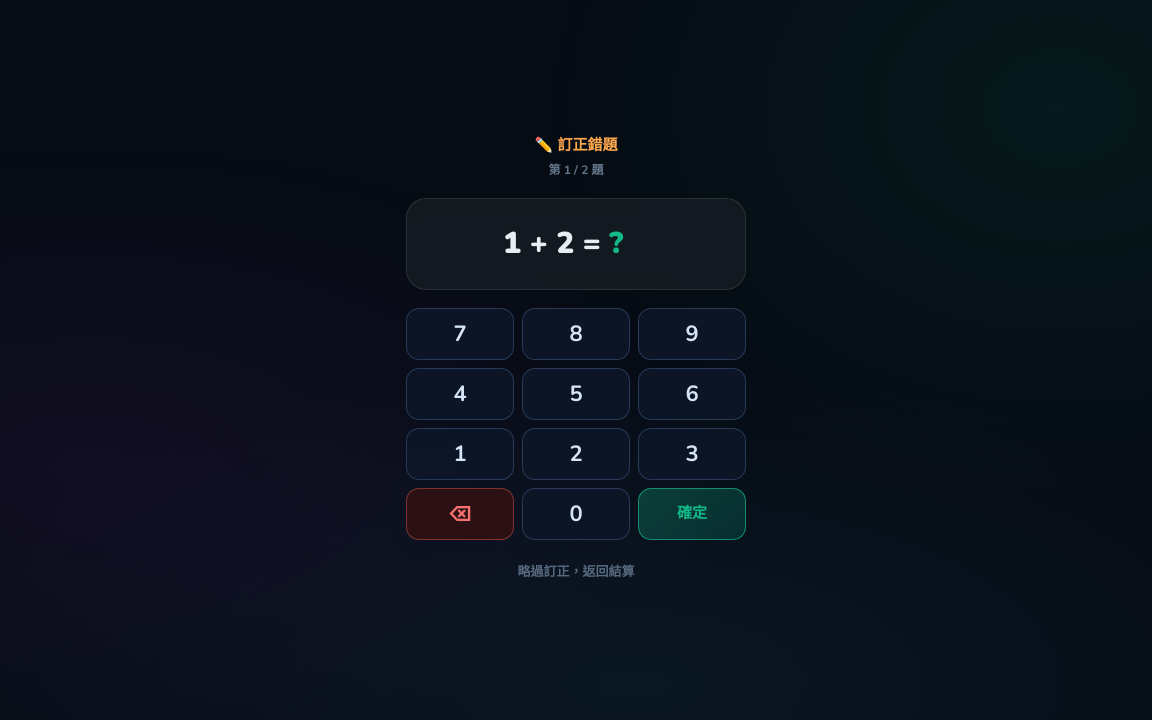
Test: KeypadReview › correct answer advances to the next question
This screenshot has width=1152, height=720.
What coordinates should you click on to do the following:
click the button "3"
I would click on:
 (692, 454)
Its box is [638, 428, 746, 480].
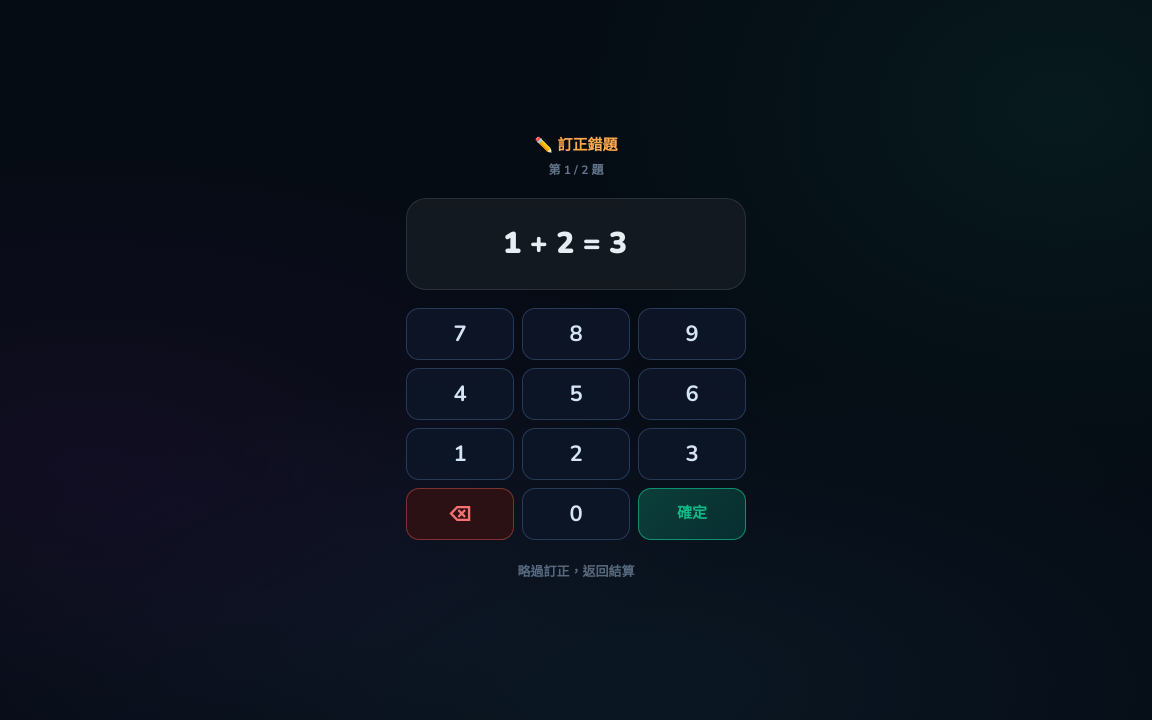
What coordinates should you click on to do the following:
click the button "確定"
I would click on:
 (692, 514)
Its box is [638, 488, 746, 540].
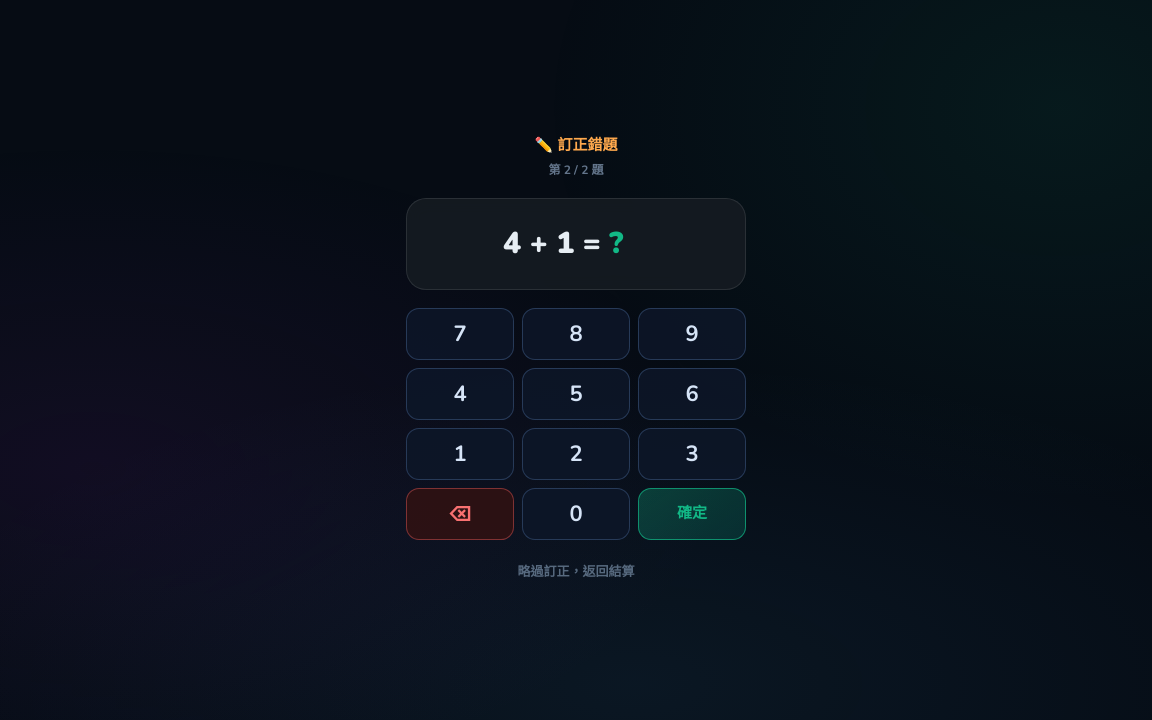
Expected: the text "第 2 / 2 題" is shown, [548, 162, 604, 178]
Expected: the text "4 + 1 =" is shown, [503, 221, 601, 267]
